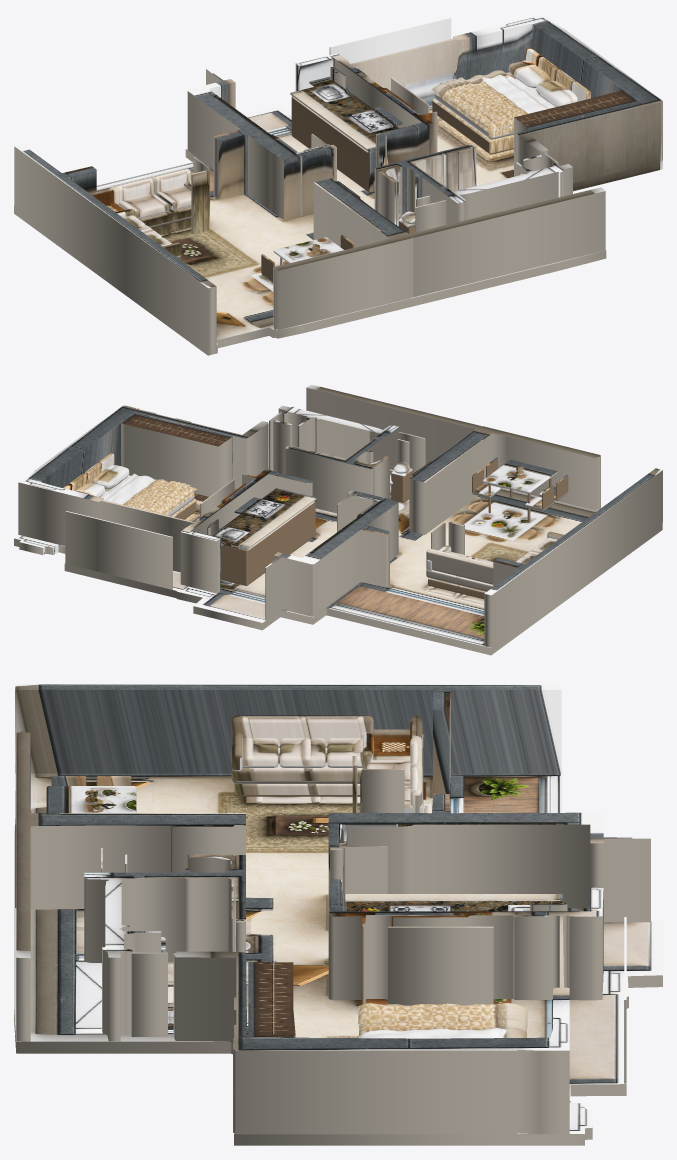
Rendered from p4-02-u06-2112-image-model.glb.
3 views of the same model, one above another, from view 1: azimuth 30°, elevation 25°; view 2: azimuth 150°, elevation 25°; view 3: azimuth 270°, elevation 25° (orthographic). The views are drawn at different scales.
Visible parts, largest first — view 1: Partition walls, Apartment floor, Kitchen cabinets, Draped bed linen, Stone worktop, Sofa back, Draped bed linen.001, Walnut upholstered base, Upholstered headboard, Marble dining top, Seat cushion.001, Piped mattress (+5 smaller); view 2: Partition walls, Apartment floor, Kitchen cabinets, Stone worktop, Draped bed linen, Marble dining top, Sofa back, Draped bed linen.001, Upholstered sofa frame, Upholstered headboard, Inset cooktop, Tailored pillow (+2 smaller); view 3: Partition walls, Apartment floor, Stone worktop, Sofa back.001, Draped bed linen, Draped bed linen.001, Marble dining top, Upholstered sofa frame.001, Sofa plinth.001, Seat cushion.004, Sofa back, Seat cushion.003 (+2 smaller).
Part boxes in pixels (x1=…): Partition walls: x1=14, y1=14, x2=662, y2=347; Apartment floor: x1=14, y1=104, x2=662, y2=355; Kitchen cabinets: x1=291, y1=96, x2=376, y2=192; Draped bed linen: x1=431, y1=70, x2=554, y2=131; Stone worktop: x1=290, y1=87, x2=398, y2=152; Sofa back: x1=89, y1=169, x2=191, y2=204; Draped bed linen.001: x1=439, y1=77, x2=514, y2=129; Walnut upholstered base: x1=432, y1=98, x2=513, y2=154; Upholstered headboard: x1=525, y1=47, x2=590, y2=101; Marble dining top: x1=273, y1=237, x2=343, y2=263; Seat cushion.001: x1=119, y1=193, x2=169, y2=218; Piped mattress: x1=435, y1=72, x2=555, y2=139; Partition walls: x1=18, y1=384, x2=662, y2=647; Apartment floor: x1=14, y1=467, x2=662, y2=655; Kitchen cabinets: x1=220, y1=500, x2=315, y2=585; Stone worktop: x1=221, y1=488, x2=316, y2=549; Draped bed linen: x1=101, y1=473, x2=197, y2=514; Marble dining top: x1=483, y1=460, x2=557, y2=493; Sofa back: x1=426, y1=548, x2=493, y2=584; Draped bed linen.001: x1=132, y1=481, x2=190, y2=511; Upholstered sofa frame: x1=426, y1=569, x2=493, y2=591; Upholstered headboard: x1=63, y1=453, x2=114, y2=491; Inset cooktop: x1=234, y1=497, x2=281, y2=518; Tailored pillow: x1=92, y1=465, x2=129, y2=489; Partition walls: x1=15, y1=684, x2=650, y2=1134; Apartment floor: x1=14, y1=768, x2=662, y2=1145; Stone worktop: x1=342, y1=894, x2=562, y2=911; Sofa back.001: x1=231, y1=715, x2=373, y2=747; Draped bed linen: x1=359, y1=1003, x2=526, y2=1038; Draped bed linen.001: x1=358, y1=1003, x2=527, y2=1027; Marble dining top: x1=46, y1=786, x2=136, y2=813; Upholstered sofa frame.001: x1=231, y1=747, x2=362, y2=783; Sofa plinth.001: x1=234, y1=783, x2=360, y2=796; Seat cushion.004: x1=280, y1=738, x2=325, y2=767; Sofa back: x1=410, y1=716, x2=422, y2=812; Seat cushion.003: x1=242, y1=738, x2=278, y2=767.
Bounding box in the file's own units: 10.72 × 1.3 × 8.02.
Materials: 14 (3 with a texture image).
